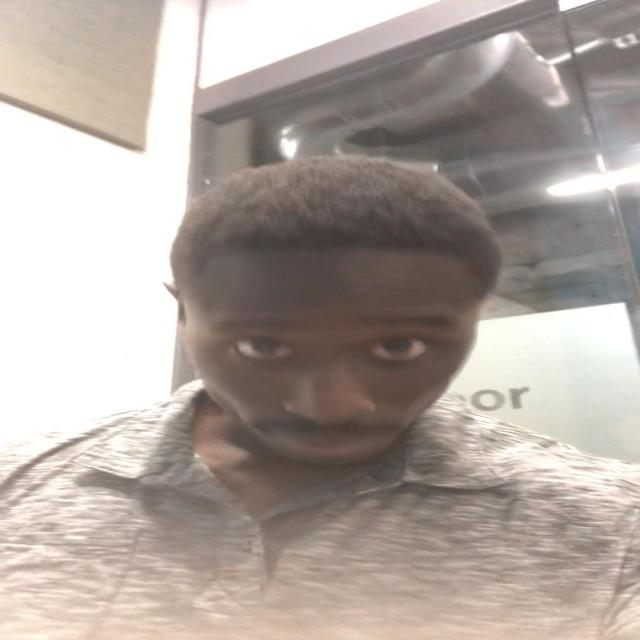face: (194, 266, 476, 466)
